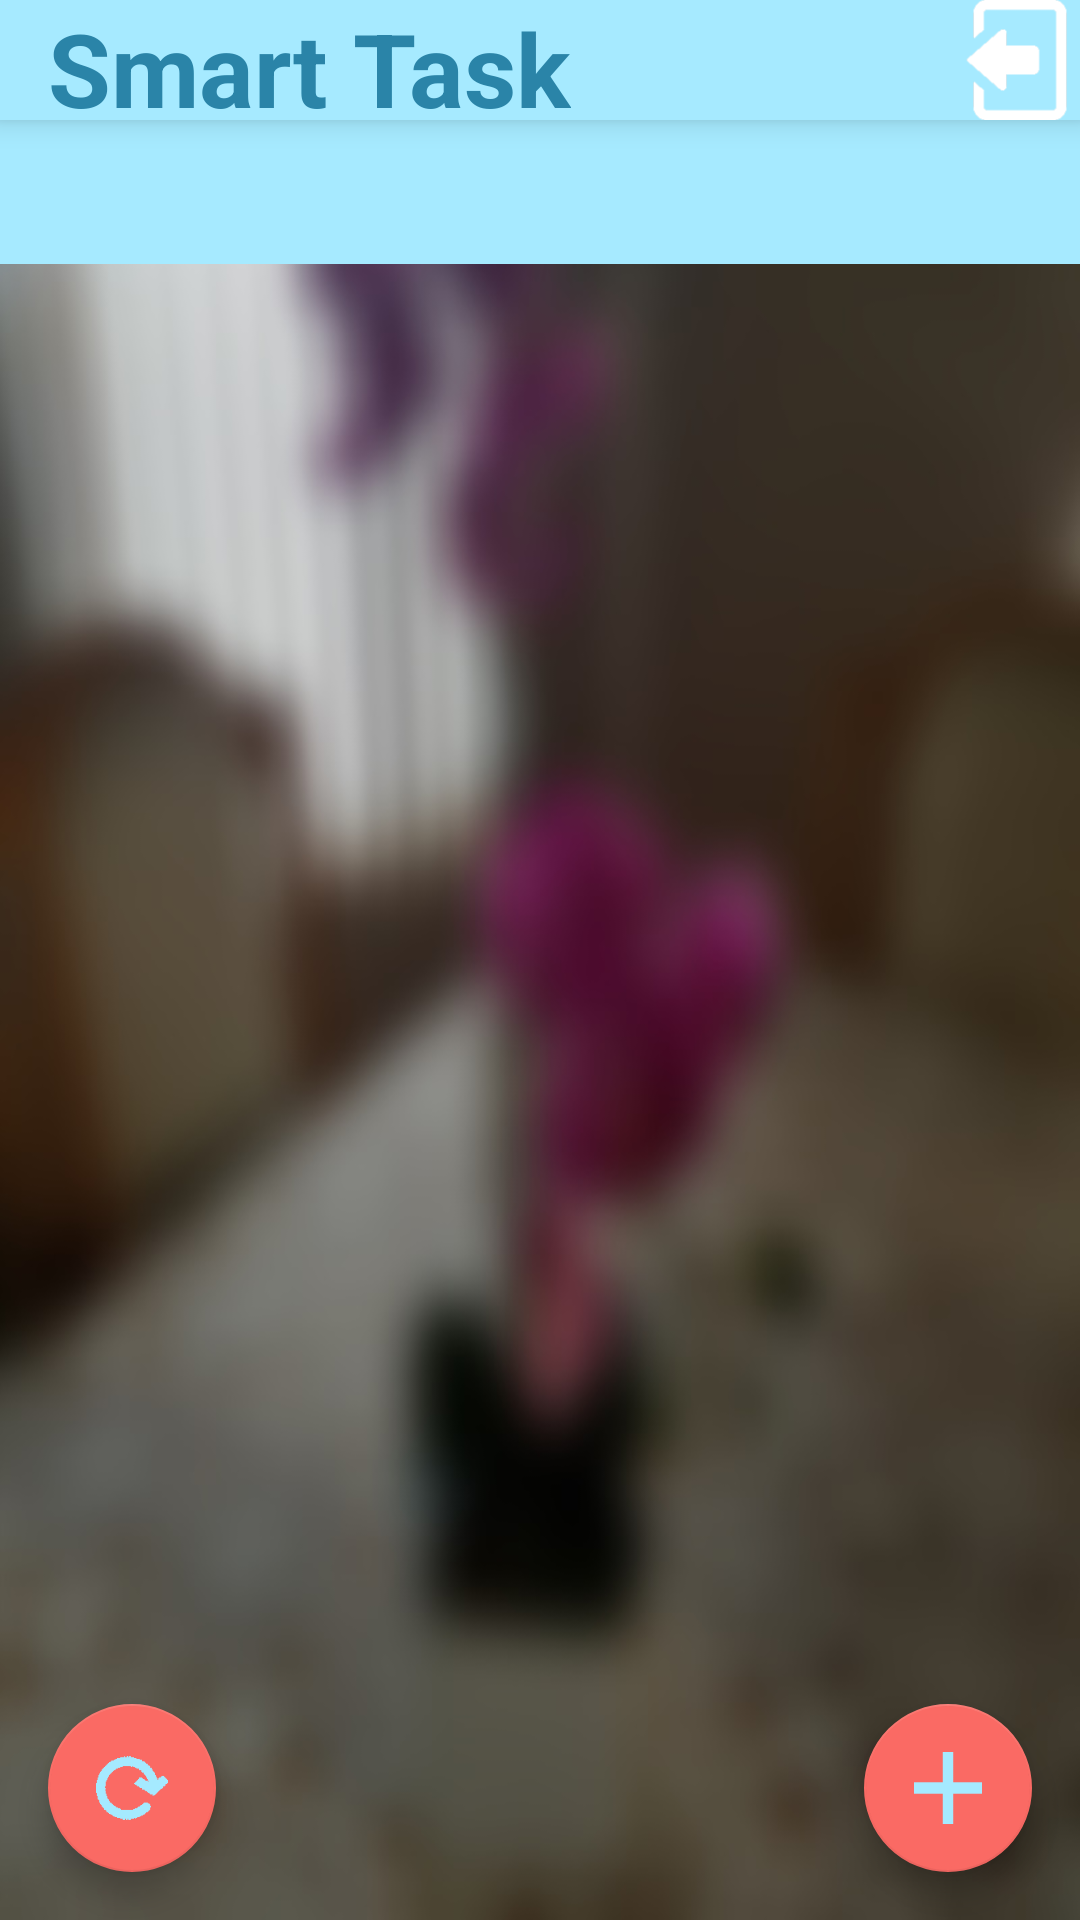

Icons on this 1080x1920 Android screen, each with the point to tap as [x,y]:
add: [948,1788]
refresh: [132,1788]
